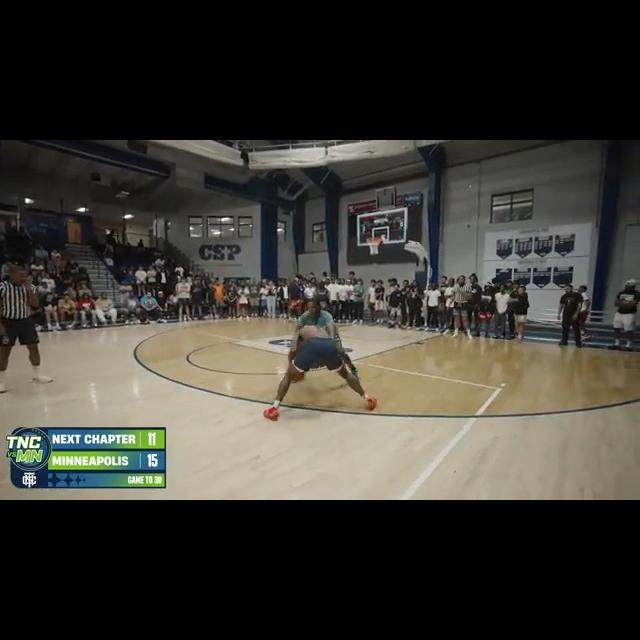hoop: (366, 235, 383, 255)
